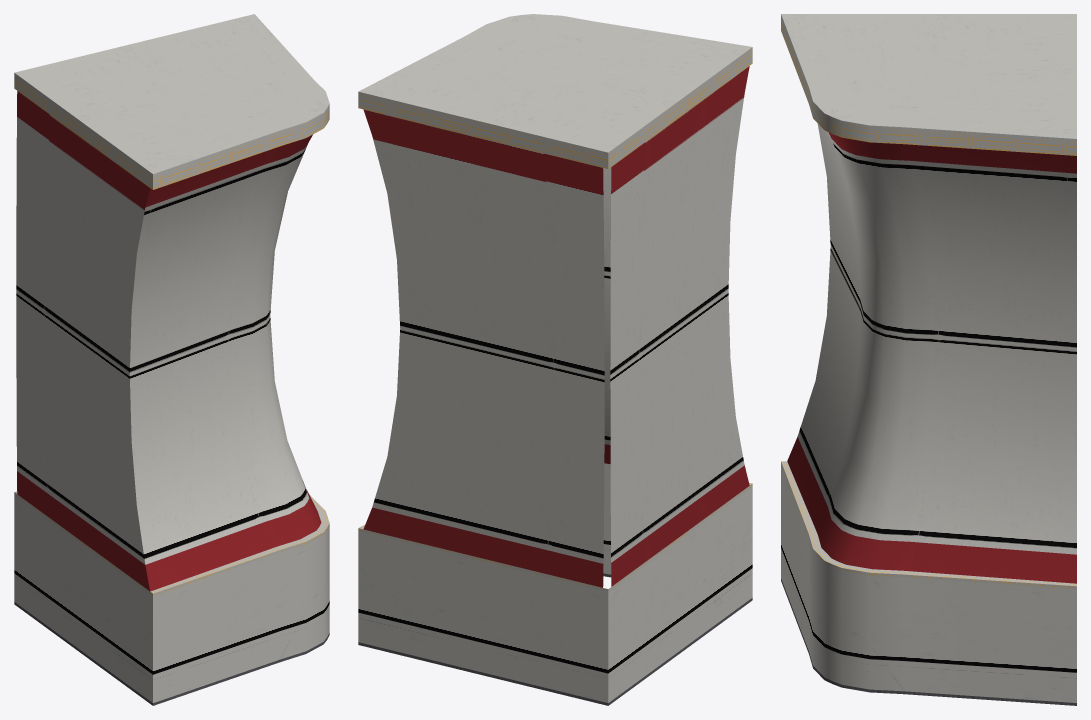
The model's file is G_Env_Arch_Wall_04_CornerPartial.fbx.
3 renders of one model, left to right at view 1: azimuth 30°, elevation 25°; view 2: azimuth 150°, elevation 25°; view 3: azimuth 270°, elevation 25°, orthographic. The views are drawn at different scales.
Visible parts, largest first — view 1: G_Env_Arch_Wall_04_CornerPartial; view 2: G_Env_Arch_Wall_04_CornerPartial; view 3: G_Env_Arch_Wall_04_CornerPartial.
Boxes of the visible parts, x1,y1,x2,y2 form: G_Env_Arch_Wall_04_CornerPartial: [14, 14, 329, 705]; G_Env_Arch_Wall_04_CornerPartial: [358, 14, 752, 705]; G_Env_Arch_Wall_04_CornerPartial: [781, 14, 1076, 705].
Bounding box in the file's own units: 426 × 900 × 426.
